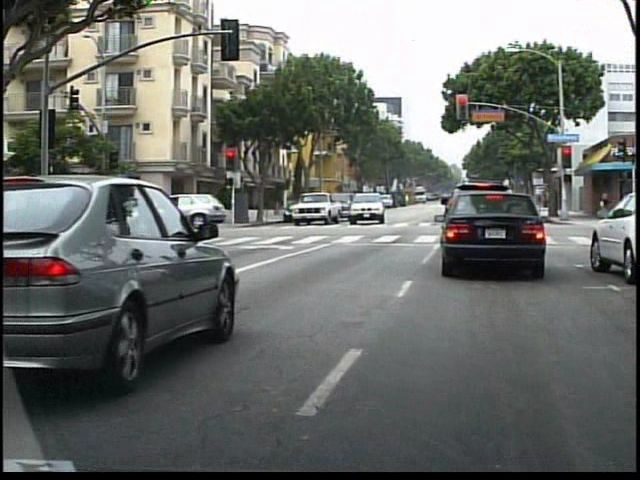person: (115, 191, 133, 235), (134, 193, 151, 233)
